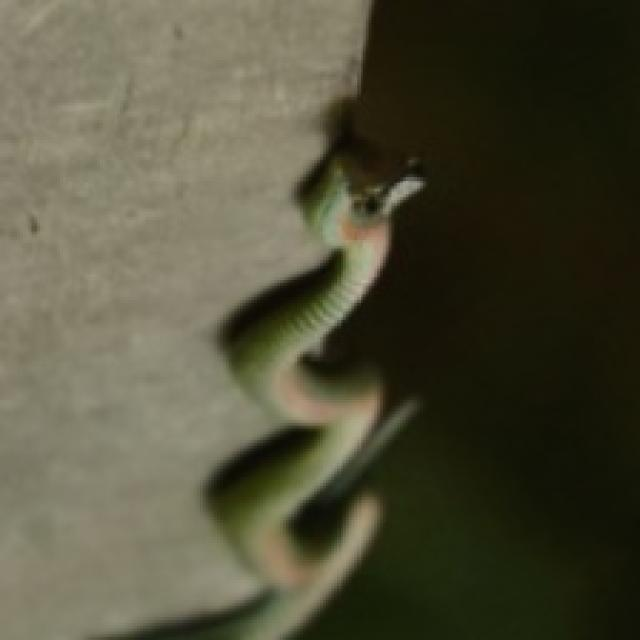paradise tree snake: (120, 123, 423, 637), (120, 126, 423, 637)
